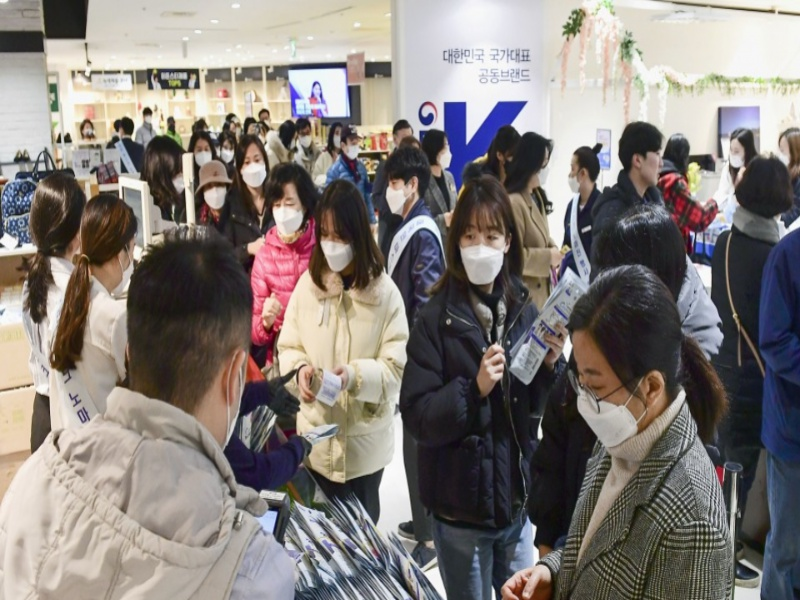ManaoArotava: (550, 291, 658, 465), (450, 183, 521, 299), (313, 191, 360, 281), (375, 147, 427, 223), (262, 165, 309, 246), (231, 133, 276, 199), (188, 157, 235, 218), (563, 141, 598, 204)
TsisyArotava: (616, 118, 675, 207)
